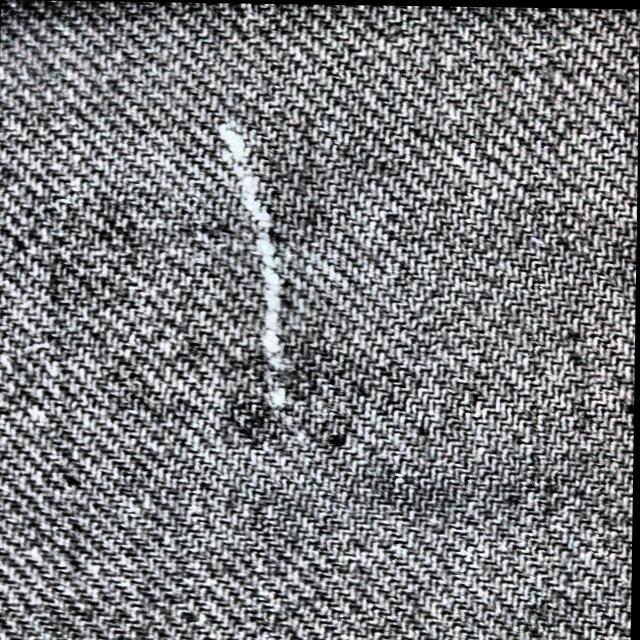Hole: (215, 124, 286, 364)
